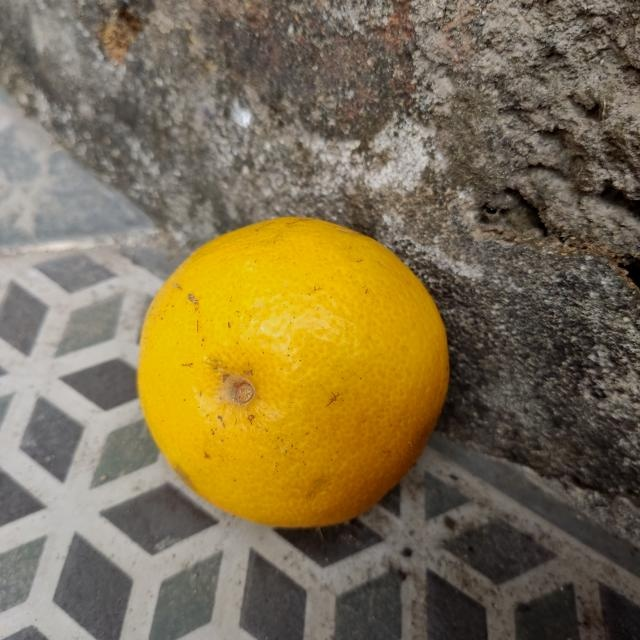agrume: (136, 214, 454, 530)
